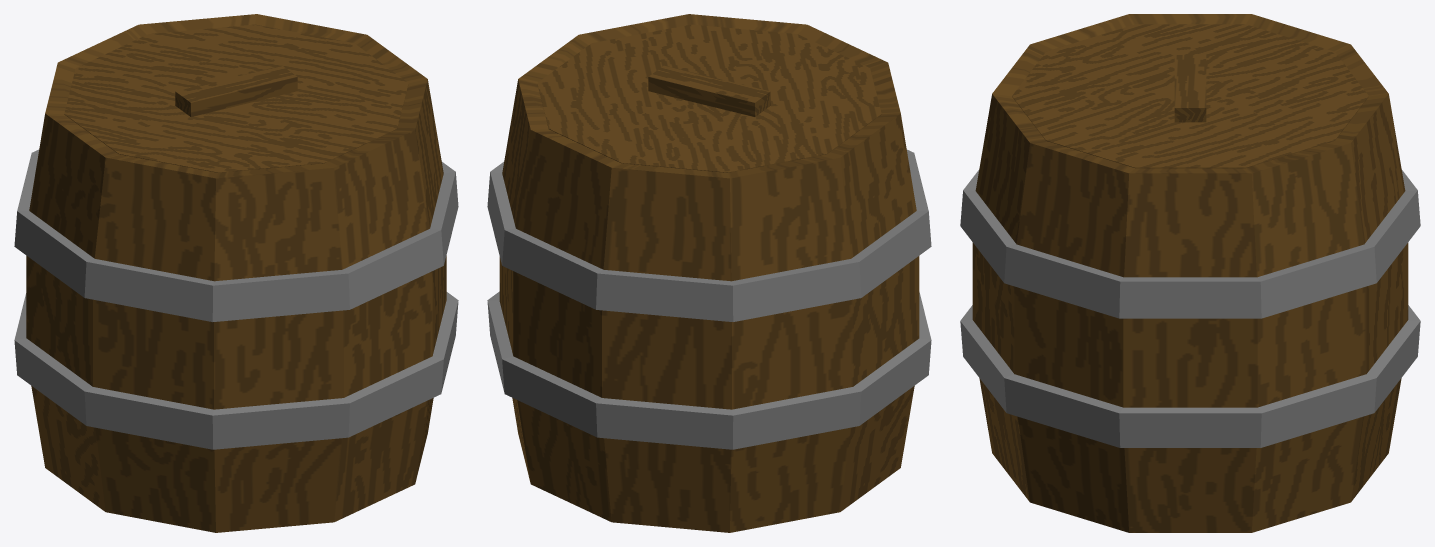
Rendered from barrel.fbx.
3 views of the same model, side by side, from view 1: azimuth 30°, elevation 25°; view 2: azimuth 150°, elevation 25°; view 3: azimuth 270°, elevation 25° (orthographic).
Parts seen in each view (by area): view 1: barrel; view 2: barrel; view 3: barrel.
Boxes of the visible parts, bbox=[...] form: barrel: bbox=[14, 14, 458, 532]; barrel: bbox=[487, 14, 931, 532]; barrel: bbox=[960, 14, 1420, 532].
Size of the model in its own units: 161 by 151 by 169.
